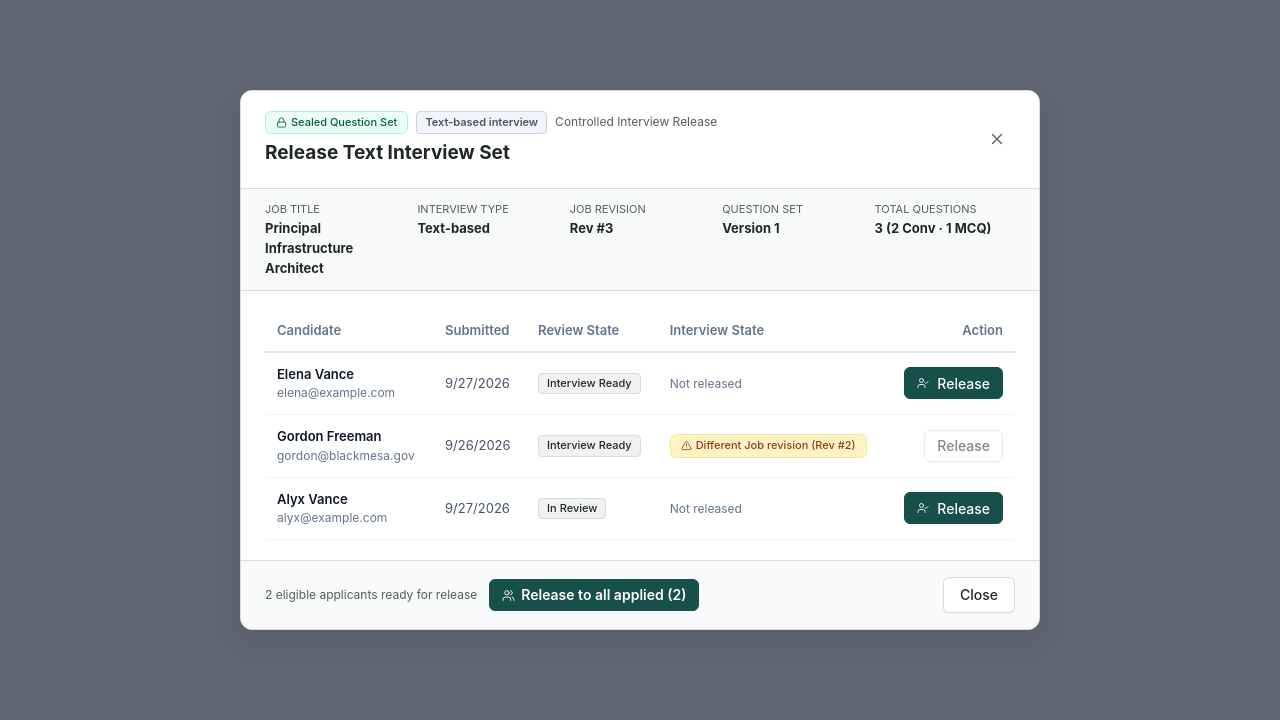
Test: Phase 4C.3 Corrective UI Additions › A. Release Interview Set from Sealed AI Interview Page › 6. Idempotent existing release is shown as released
This screenshot has width=1280, height=720.
Click the button titled "Release interview set to Elena Vance" in the row of "Elena Vance".
click(954, 383)  # box top-left (904, 367), bottom-right (1003, 399)
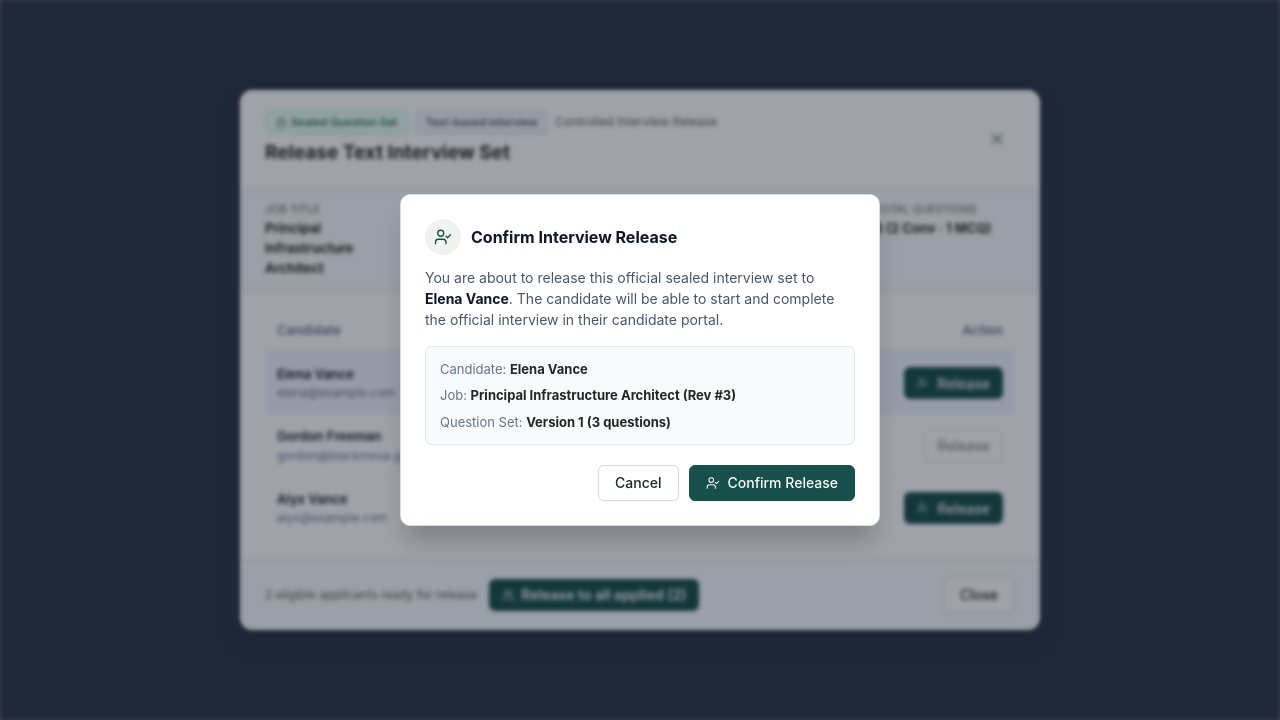
Click the button "Confirm Release".
click(772, 483)  # box top-left (688, 465), bottom-right (855, 501)
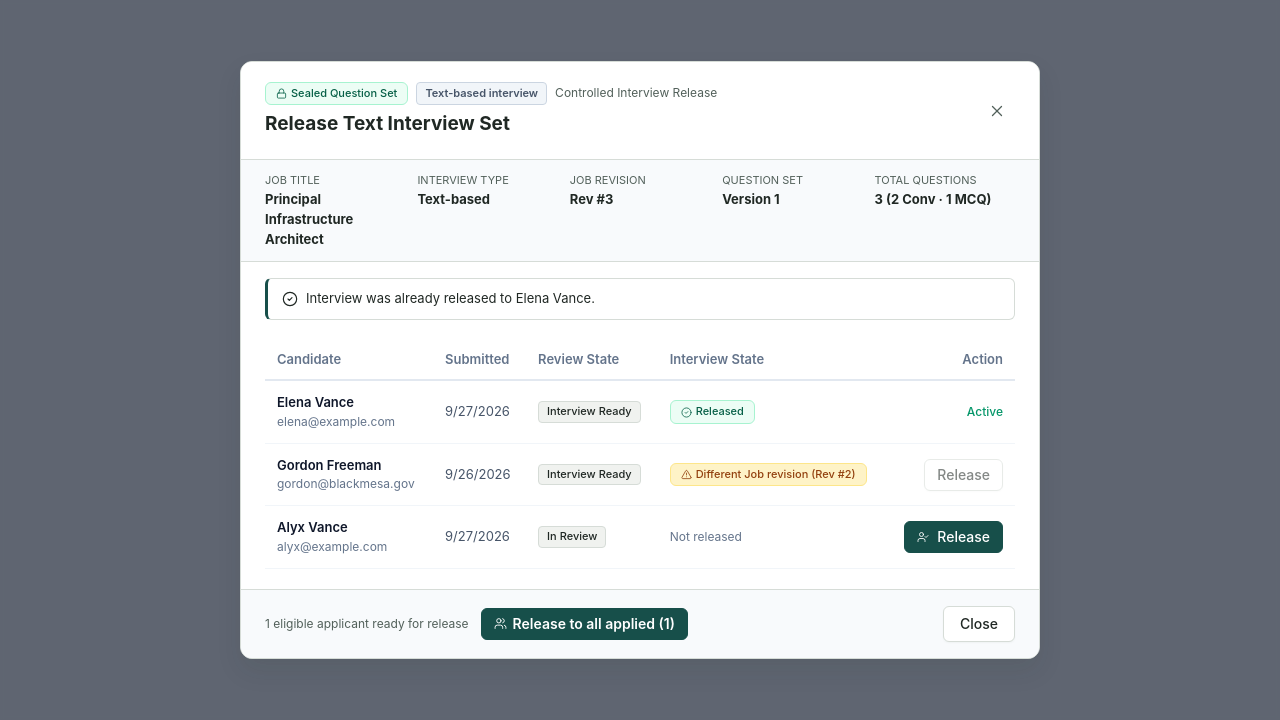
Expected: the text "Interview was already released to Elena Vance." is shown, top-left (306, 289), bottom-right (595, 309)
Expected: the text "Released" is shown, top-left (696, 404), bottom-right (744, 420)
